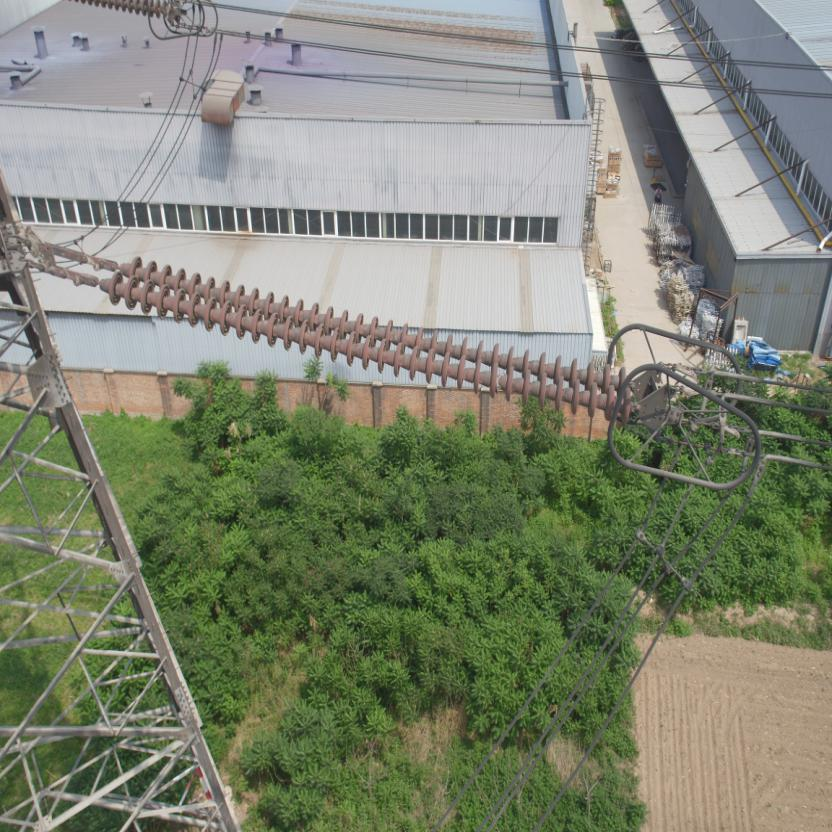insulator: (73, 250, 651, 430)
